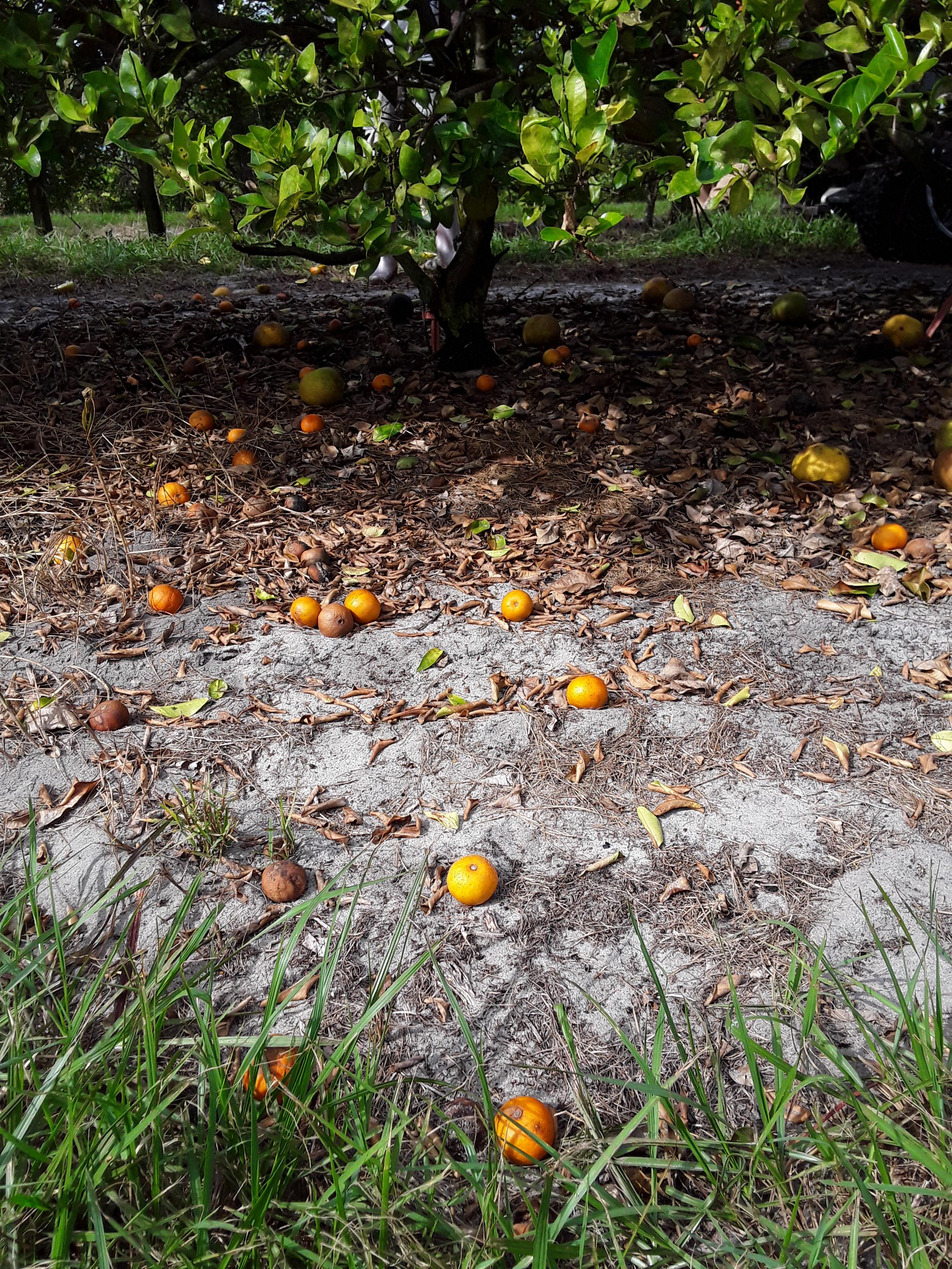fruit_on_tree: (222, 1032, 329, 1098), (491, 1092, 560, 1170), (786, 434, 859, 493), (256, 842, 313, 912), (440, 849, 510, 904), (559, 657, 618, 715), (493, 575, 545, 636), (312, 595, 366, 643), (293, 365, 353, 408), (341, 579, 389, 628), (88, 684, 133, 735), (765, 289, 822, 329), (881, 309, 929, 356), (279, 587, 331, 628), (50, 529, 98, 569), (635, 272, 680, 308), (521, 311, 565, 347), (657, 281, 702, 315), (249, 318, 292, 351), (872, 517, 911, 551), (904, 528, 937, 564), (147, 575, 177, 612), (386, 288, 417, 323), (238, 490, 270, 522), (932, 442, 952, 493), (58, 337, 90, 367), (157, 482, 193, 508), (175, 351, 210, 375), (302, 561, 332, 588), (187, 501, 216, 528), (681, 331, 713, 355), (278, 538, 310, 561), (297, 540, 329, 563), (931, 411, 952, 446), (537, 343, 565, 367), (369, 369, 397, 393), (578, 405, 600, 435), (230, 447, 258, 470), (298, 414, 330, 434), (278, 488, 306, 510), (189, 406, 214, 430), (223, 426, 253, 444), (475, 371, 495, 393), (560, 334, 574, 363), (322, 313, 343, 332), (65, 294, 83, 313), (293, 336, 310, 353), (214, 284, 233, 299), (216, 297, 235, 312), (271, 288, 289, 303), (255, 281, 275, 294), (150, 289, 168, 302), (192, 289, 206, 302)
